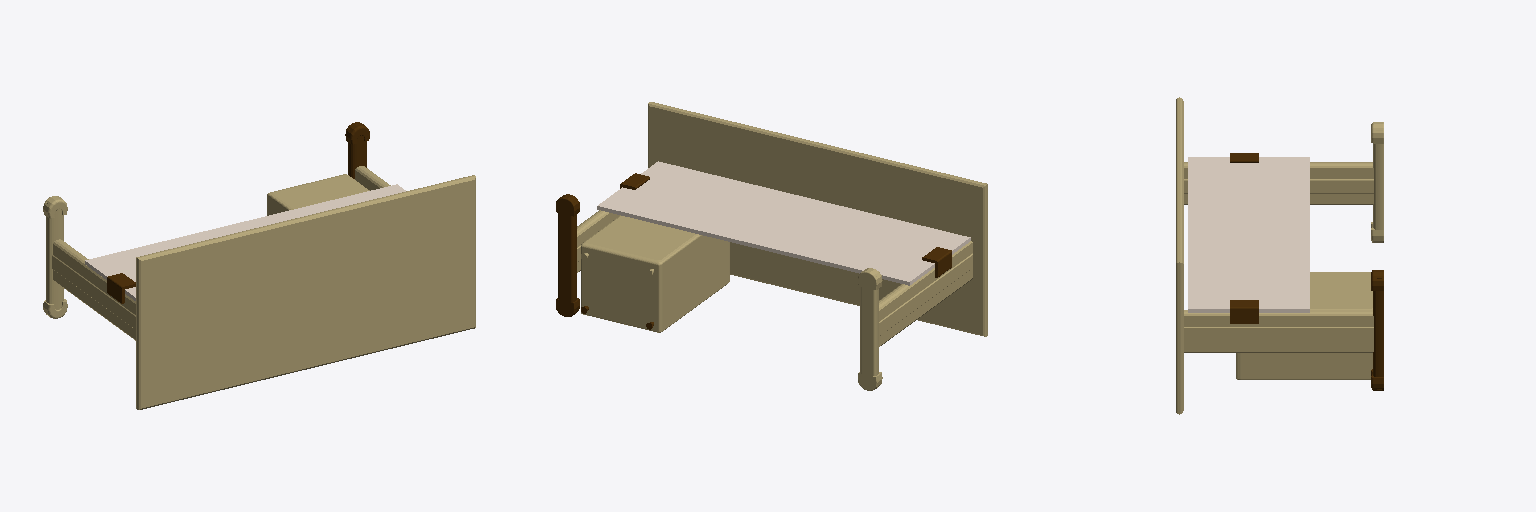
File: Table7(copy).obj
3 renders of one model, left to right at view 1: azimuth 30°, elevation 25°; view 2: azimuth 150°, elevation 25°; view 3: azimuth 270°, elevation 25°, orthographic.
Parts seen in each view (by area): view 1: Object01, Object07, Object18, Object30, Object11; view 2: Object01, Object18, Object30, Object07, Object11; view 3: Object18, Object11, Object30, Object07, Object01.
Part boxes in pixels (left/top/right/bottom): Object01: left=136, top=175, right=475, bottom=409; Object07: left=43, top=196, right=135, bottom=340; Object18: left=85, top=184, right=405, bottom=303; Object30: left=267, top=174, right=369, bottom=215; Object11: left=345, top=122, right=390, bottom=190; Object01: left=648, top=102, right=987, bottom=336; Object18: left=597, top=161, right=970, bottom=285; Object30: left=581, top=215, right=729, bottom=332; Object07: left=858, top=241, right=972, bottom=390; Object11: left=556, top=194, right=619, bottom=316; Object18: left=1188, top=153, right=1309, bottom=323; Object11: left=1184, top=270, right=1383, bottom=390; Object30: left=1236, top=272, right=1372, bottom=379; Object07: left=1184, top=122, right=1383, bottom=242; Object01: left=1176, top=97, right=1183, bottom=414.
Bounding box in the file's own units: 9599 × 4124 × 5128.